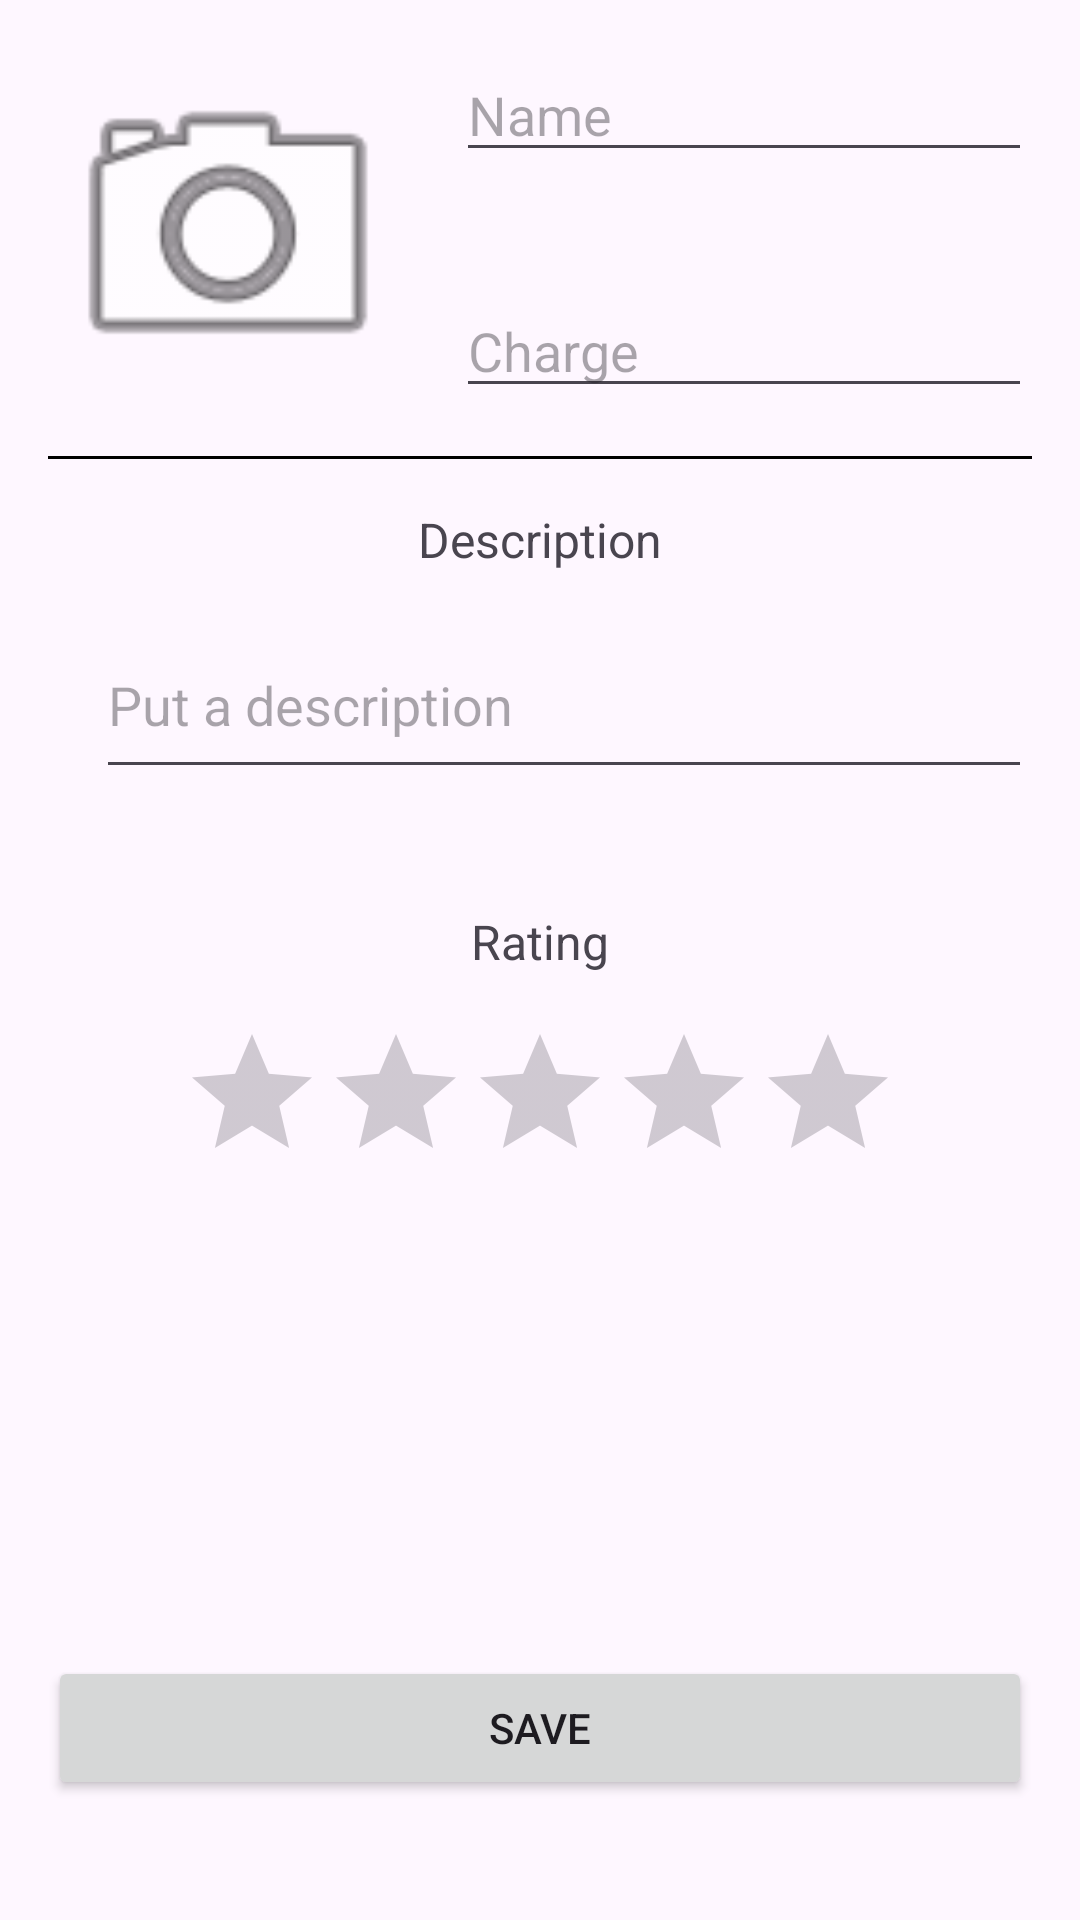

Icon bounding boxes for this 1080×1920 phone screenshot, format (x1, y1, x2, y2):
camera: (89, 111, 367, 333)
